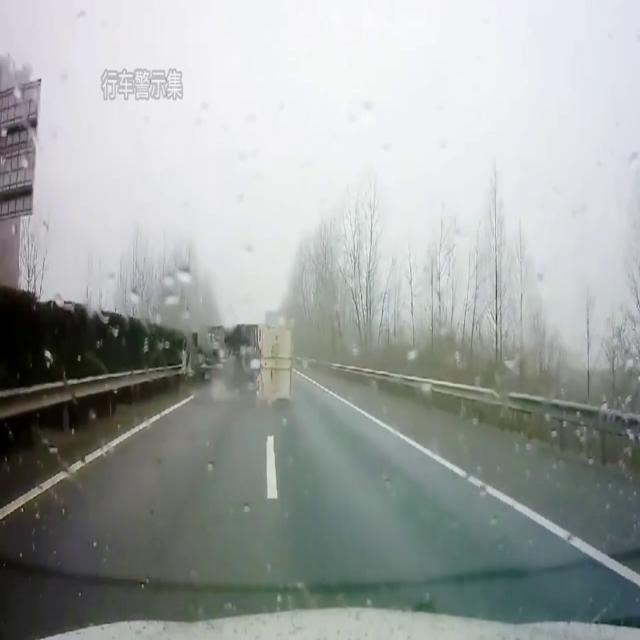multiple_accident: (190, 285, 304, 421)
